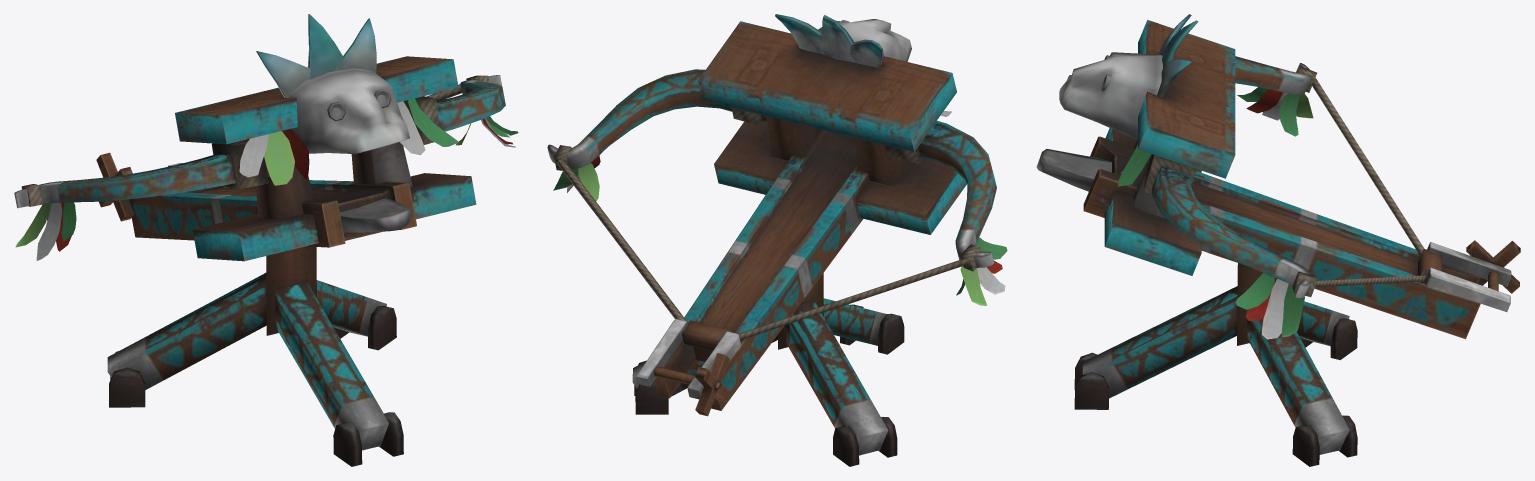
File: weapon-obsidianweapons.glb
The picture shows the model from 3 angles, left to right: view 1: azimuth 30°, elevation 25°; view 2: azimuth 150°, elevation 25°; view 3: azimuth 270°, elevation 25°; orthographic projection. The views are drawn at different scales.
Size of the model in its own units: 2.33 by 1.85 by 2.14.
1 material, 1 textured.
